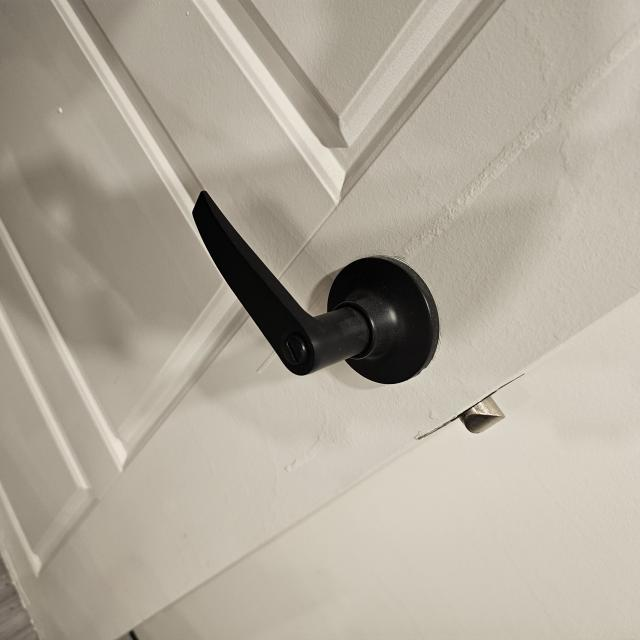door-handle: (192, 191, 439, 384)
